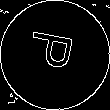P_E: (27, 32, 83, 78)
